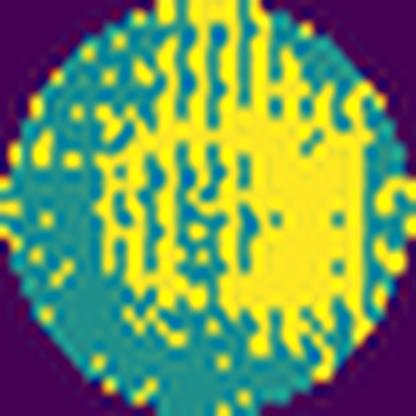Near-full: (83, 0, 415, 365)
